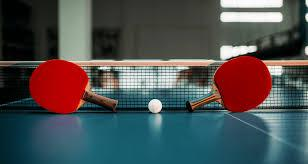ball_pingpong: (148, 98, 162, 113)
